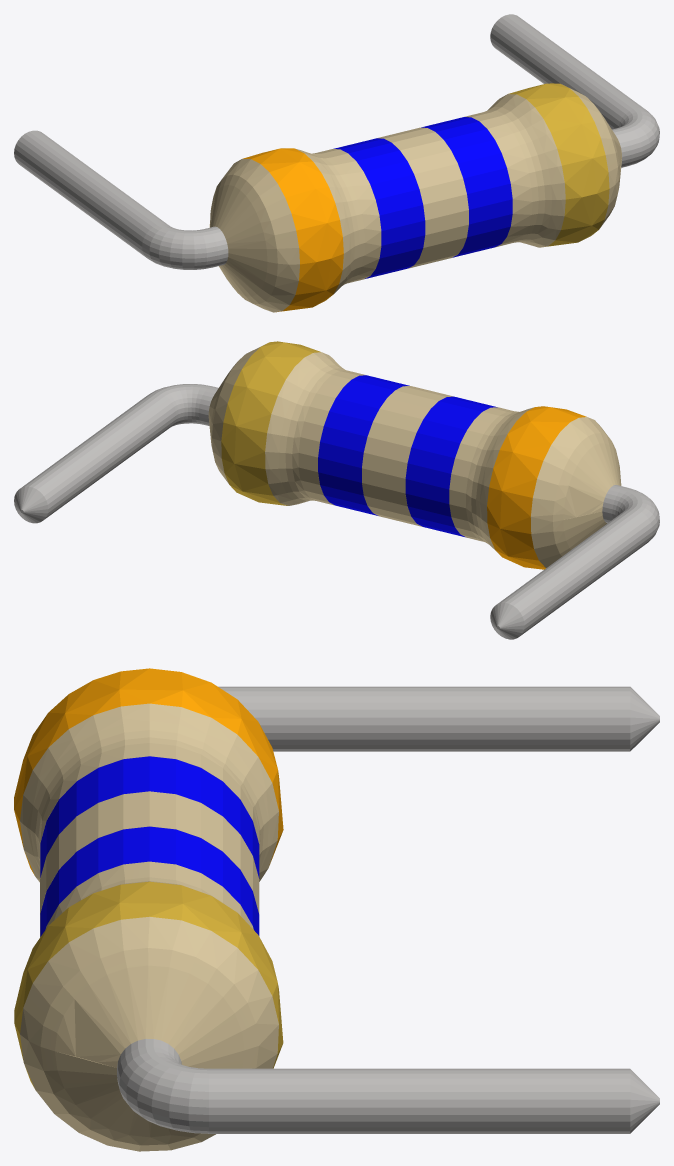
File: Yageo CFR-25 Resistor Axial P7.62mm 36,0 MOhm.obj
The picture shows the model from 3 angles, top to bottom: view 1: azimuth 30°, elevation 25°; view 2: azimuth 150°, elevation 25°; view 3: azimuth 270°, elevation 25°; orthographic projection. The views are drawn at different scales.
Parts seen in each view (by area): view 1: Yageo_CFR-25_Resistor_Axial_P7.62mm_36,0_MOhm; view 2: Yageo_CFR-25_Resistor_Axial_P7.62mm_36,0_MOhm; view 3: Yageo_CFR-25_Resistor_Axial_P7.62mm_36,0_MOhm.
Part boxes in pixels (<box>): Yageo_CFR-25_Resistor_Axial_P7.62mm_36,0_MOhm: <box>14,14,659,312</box>; Yageo_CFR-25_Resistor_Axial_P7.62mm_36,0_MOhm: <box>14,341,659,639</box>; Yageo_CFR-25_Resistor_Axial_P7.62mm_36,0_MOhm: <box>14,668,659,1151</box>.
Size of the model in its own units: 0.0169 by 0.00466 by 0.0113.
